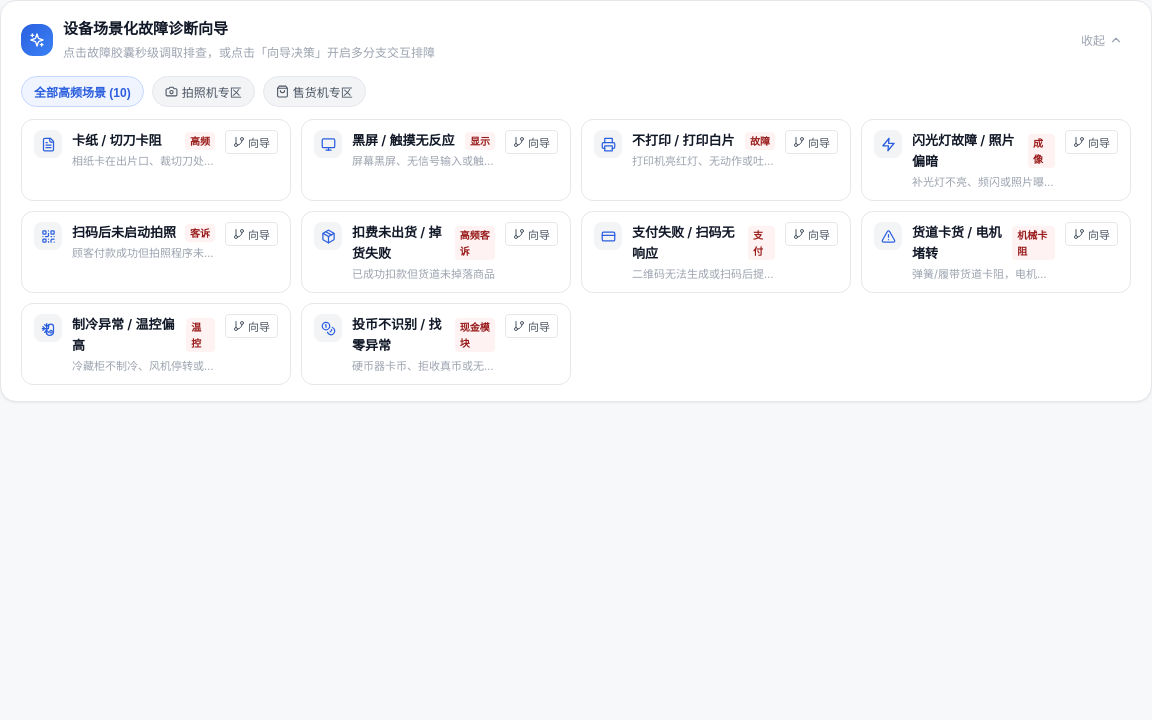
Test case: Tier 1 & 2 Component: Diagnostic Guide Decision Tree (F-06 / F-07) › T1-TREE-06: opens interactive decision tree wizard modal and navigates branches
Click the 1st button titled "打开多分支决策向导".
click(252, 142)  # box x1=225 y1=130 x2=278 y2=154
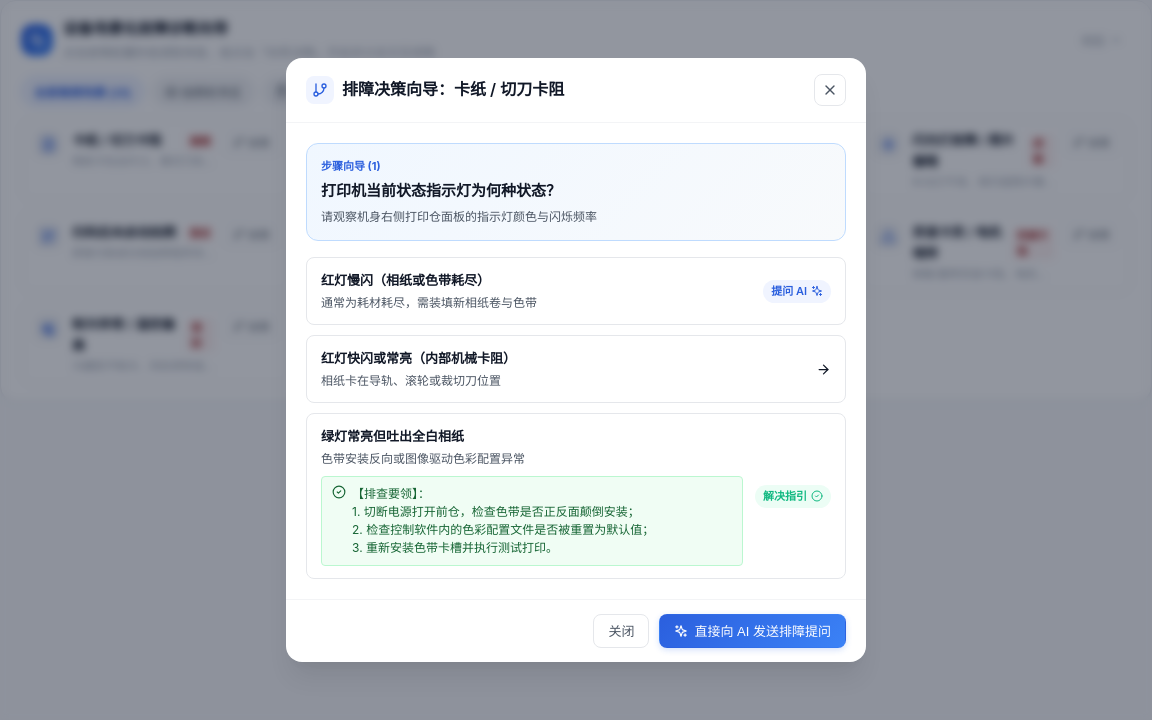
Expected: the text "排障决策向导：卡纸 / 切刀卡阻" is shown, x1=342 y1=77 x2=564 y2=103
Expected: the heading "打印机当前状态指示灯为何种状态？" is shown, x1=321 y1=181 x2=561 y2=200
Click the button "红灯快闪或常亮（内部机械卡阻） 相纸卡在导轨、滚轮或裁切刀位置".
click(419, 358)  # box x1=306 y1=335 x2=846 y2=403
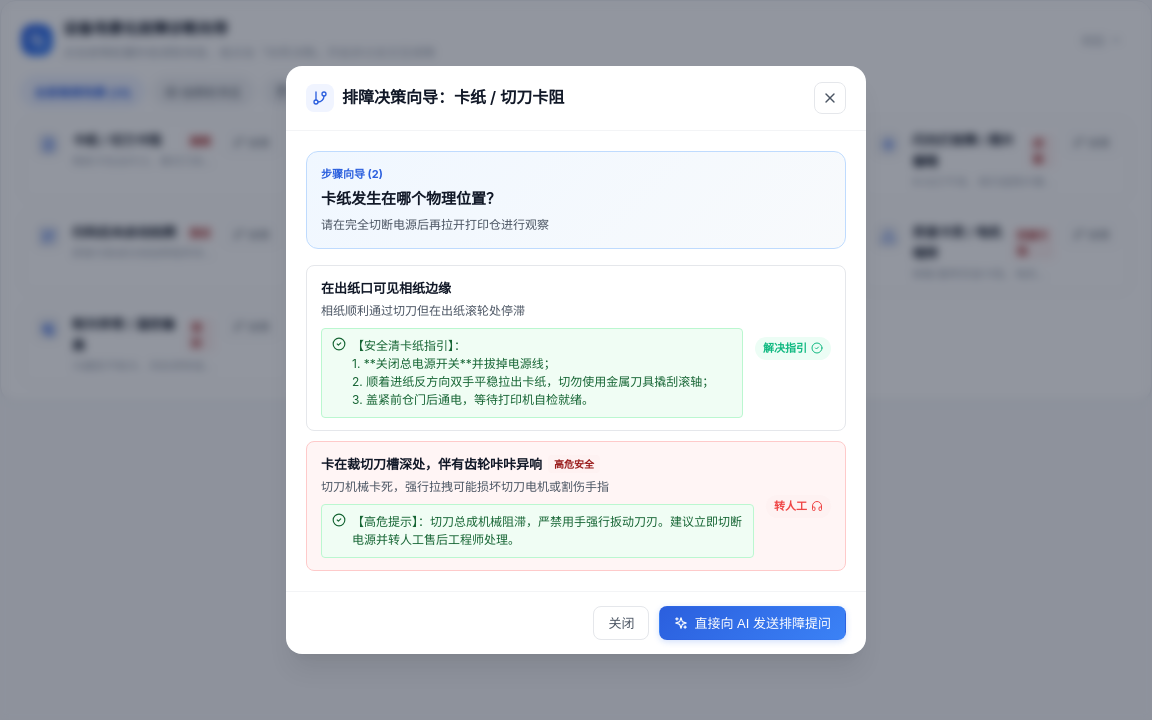
Expected: the heading "卡纸发生在哪个物理位置？" is shown, x1=321 y1=189 x2=501 y2=208
Expected: the text "在出纸口可见相纸边缘" is shown, x1=321 y1=278 x2=451 y2=299
# Close wizard
Click the button "关闭".
click(622, 623)  # box x1=594 y1=606 x2=650 y2=640
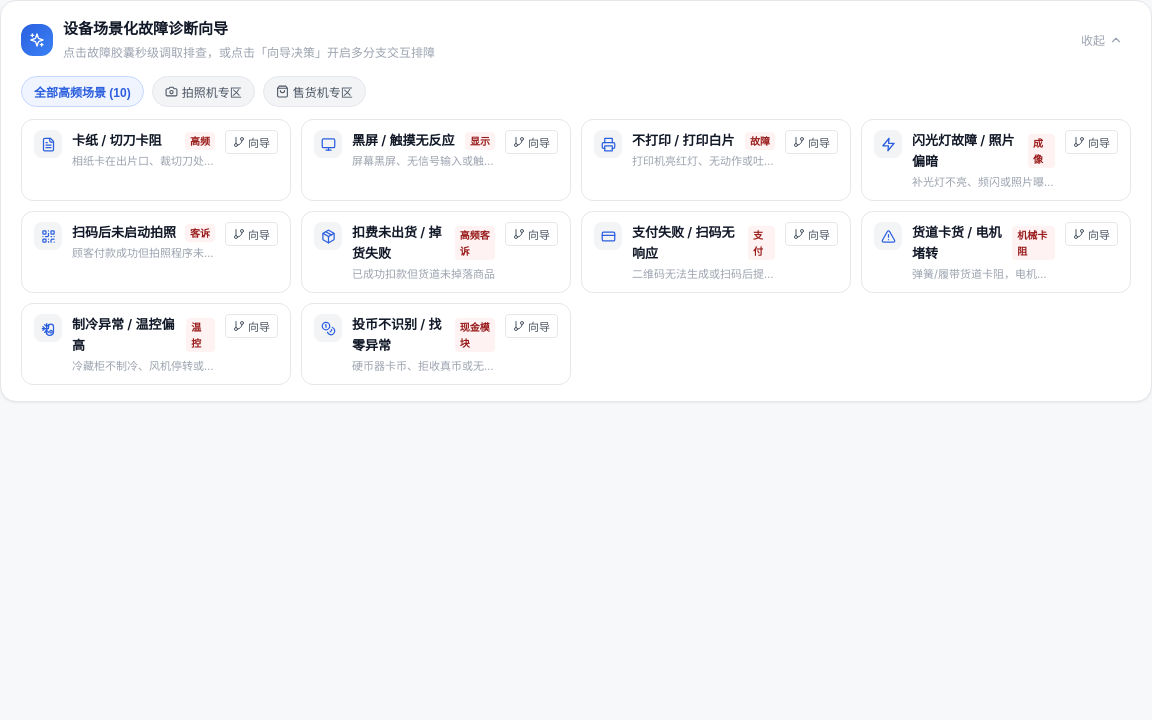
Expected: the text "排障决策向导：卡纸 / 切刀卡阻" is gone
